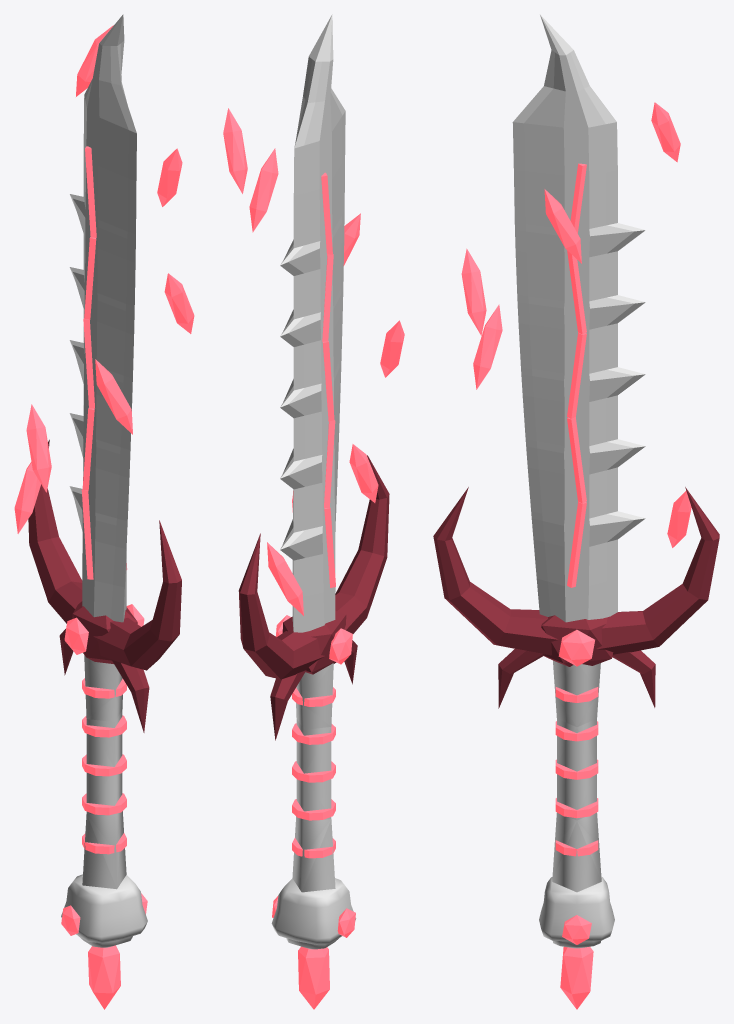
The model's file is sword_mythic.glb.
The picture shows the model from 3 angles, left to right: view 1: azimuth 30°, elevation 25°; view 2: azimuth 150°, elevation 25°; view 3: azimuth 270°, elevation 25°; orthographic projection. The views are drawn at different scales.
Visible parts, largest first — view 1: sword_mythic_export; view 2: sword_mythic_export; view 3: sword_mythic_export.
Part boxes in pixels (left/top/right/bottom): sword_mythic_export: left=14, top=14, right=194, bottom=1009; sword_mythic_export: left=223, top=14, right=404, bottom=1009; sword_mythic_export: left=433, top=14, right=719, bottom=1009.
Bounding box in the file's own units: 40.95 × 295 × 76.92.
